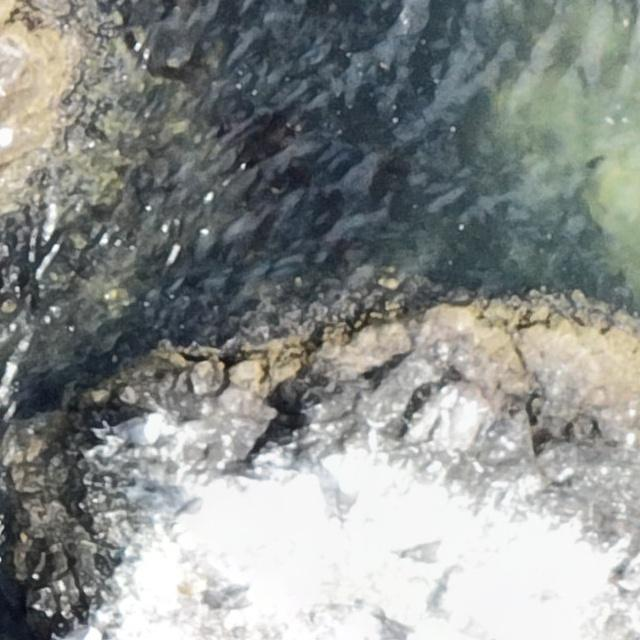umineko: (212, 587, 262, 610), (128, 414, 161, 448), (405, 541, 449, 565), (335, 474, 356, 520), (380, 614, 418, 638)
